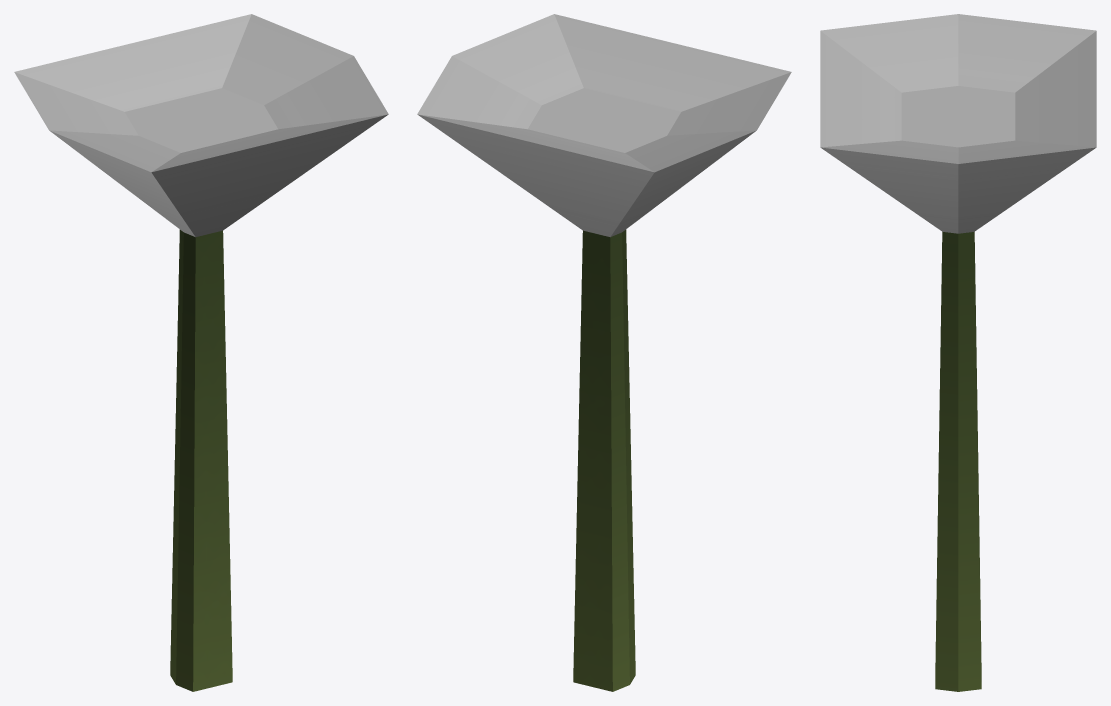
File: Flower_01.fbx
The picture shows the model from 3 angles, left to right: view 1: azimuth 30°, elevation 25°; view 2: azimuth 150°, elevation 25°; view 3: azimuth 270°, elevation 25°; orthographic projection.
Parts seen in each view (by area): view 1: flower; view 2: flower; view 3: flower.
Boxes of the visible parts, left/top/right/bottom form: flower: left=14, top=14, right=388, bottom=691; flower: left=417, top=14, right=791, bottom=691; flower: left=820, top=14, right=1096, bottom=691.
Bounding box in the file's own units: 46.28 × 84.9 × 36.05.
1 material, 1 textured.
